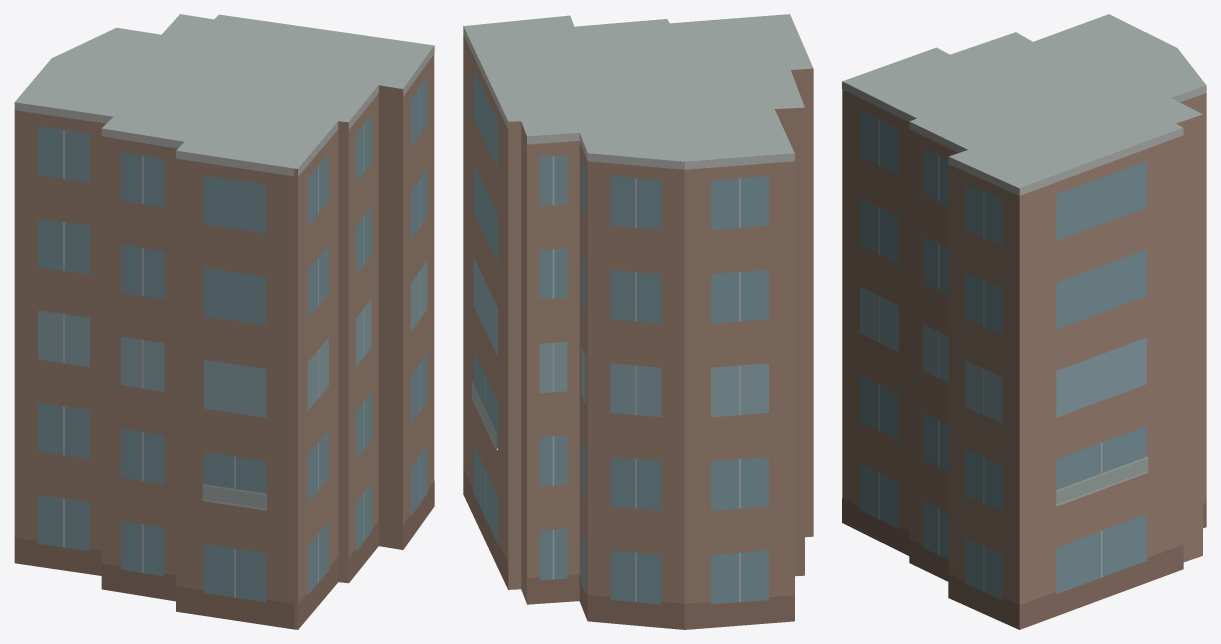
The model's file is survey-upis-32998413.glb.
3 views of the same model, side by side, from view 1: azimuth 30°, elevation 25°; view 2: azimuth 150°, elevation 25°; view 3: azimuth 270°, elevation 25° (orthographic). The views are drawn at different scales.
Visible parts, largest first — view 1: survey-upis-32998413.tmp; view 2: survey-upis-32998413.tmp; view 3: survey-upis-32998413.tmp.
Boxes of the visible parts, x1,y1,x2,y2 form: survey-upis-32998413.tmp: (14,14,434,629); survey-upis-32998413.tmp: (463,14,813,629); survey-upis-32998413.tmp: (842,14,1206,629).
Size of the model in its own units: 12.04 by 14.2 by 10.63.
